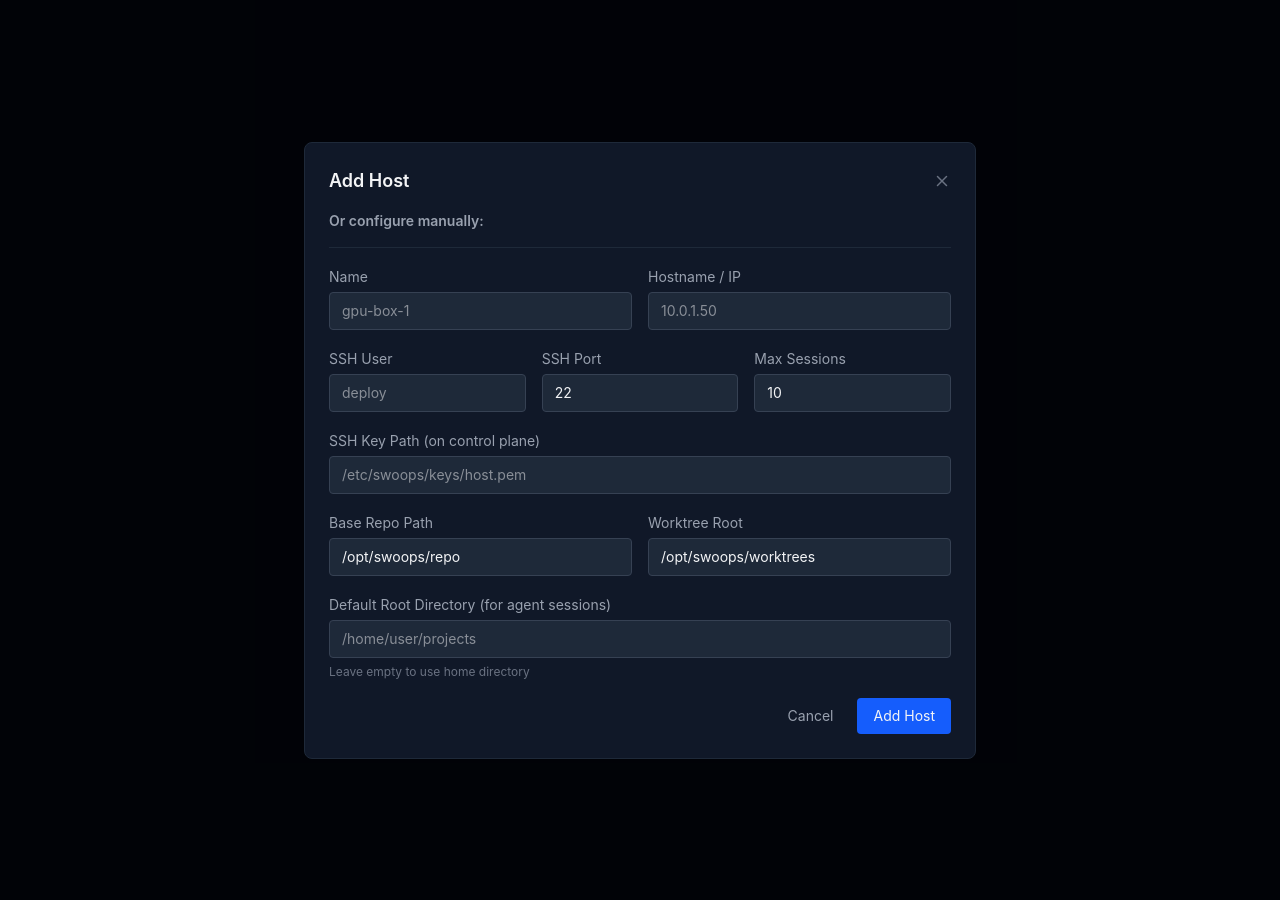
Test: CreateHostDialog › should display error message when submit fails
The image size is (1280, 900).
Type "Test Host" into the field with placeholder "gpu-box-1" at (480,310), box [329,292,632,330]
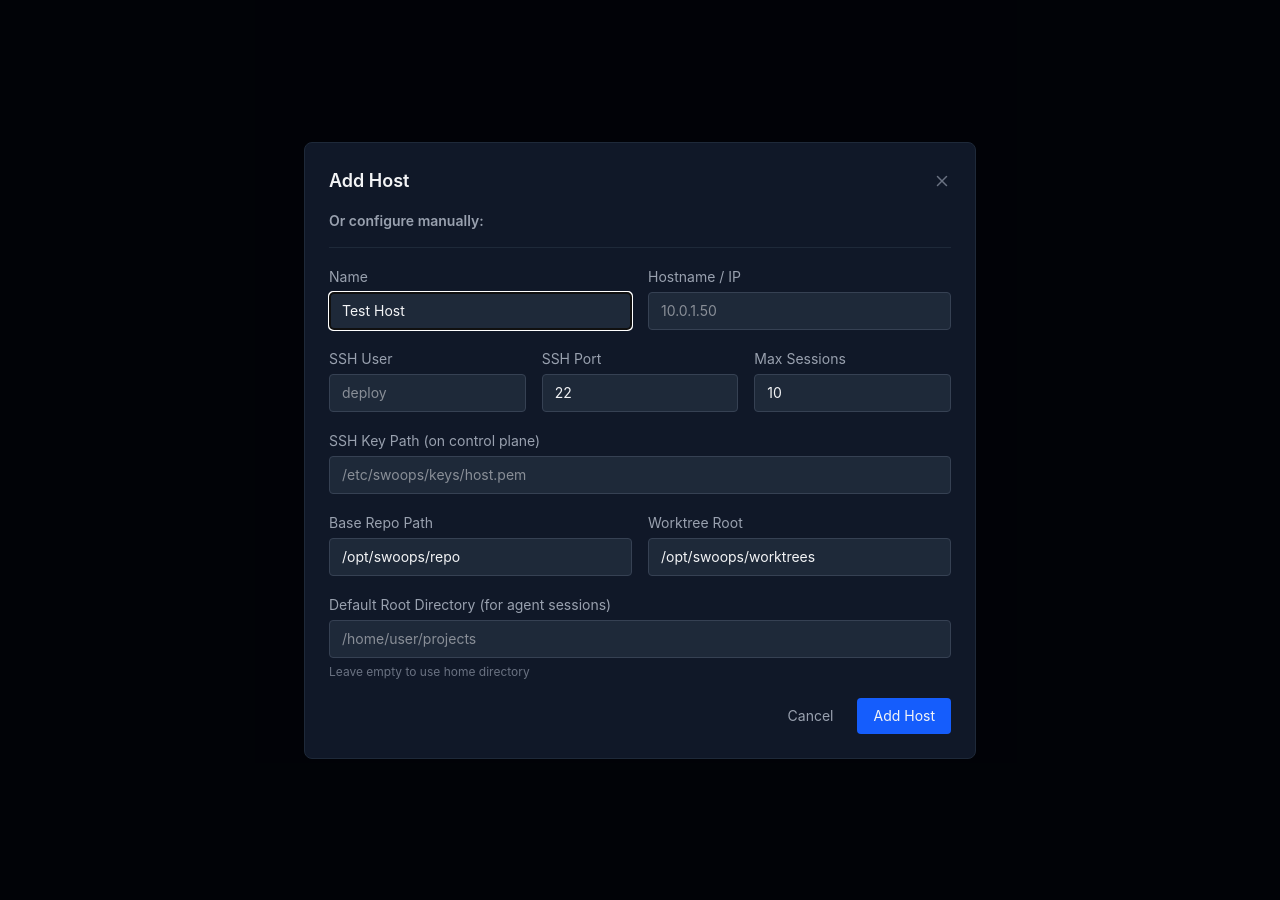
Type "test.example.com" into the field with placeholder "10.0.1.50" at (800,310), box [648,292,951,330]
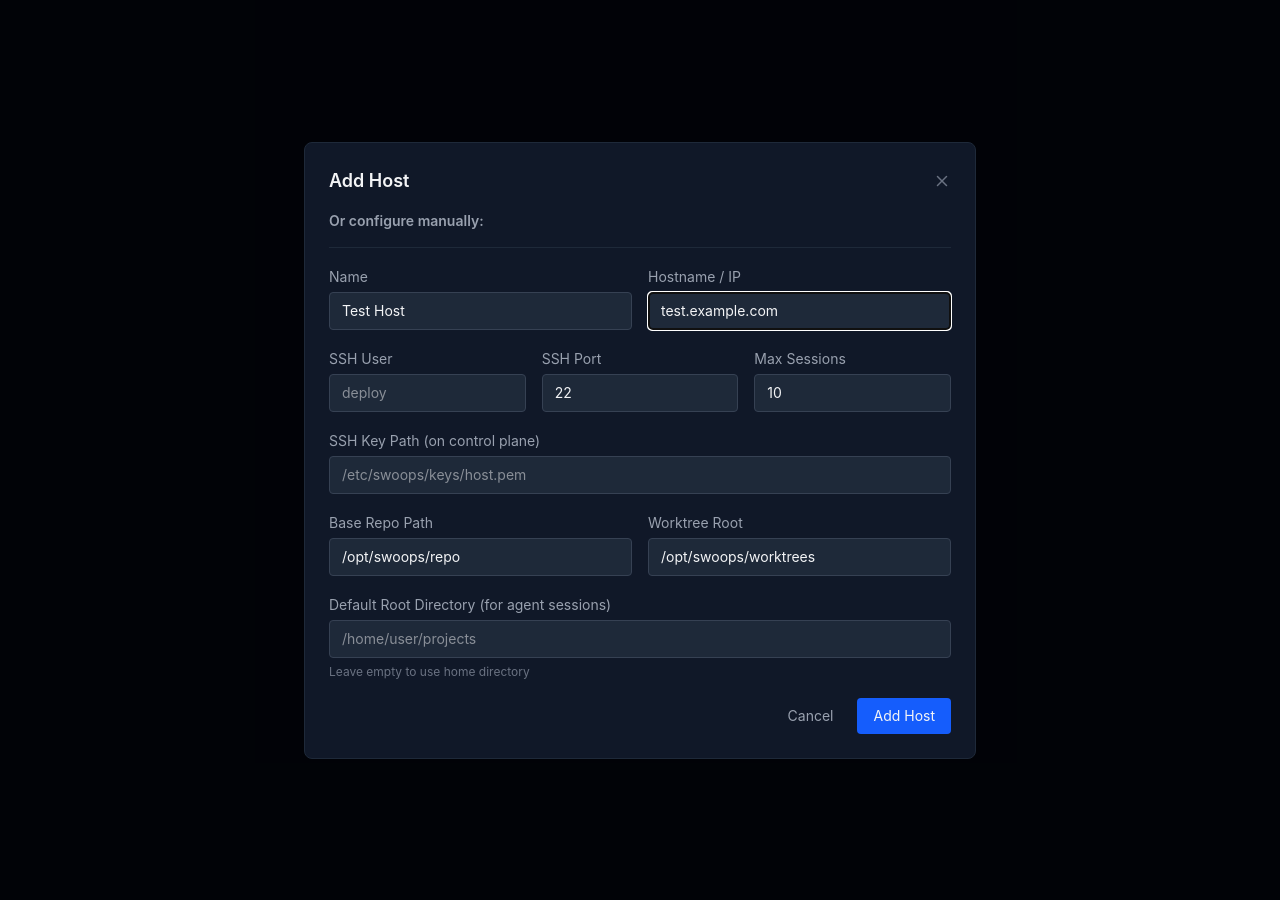
Type "testuser" into the field with placeholder "deploy" at (427,392), box [329,374,526,412]
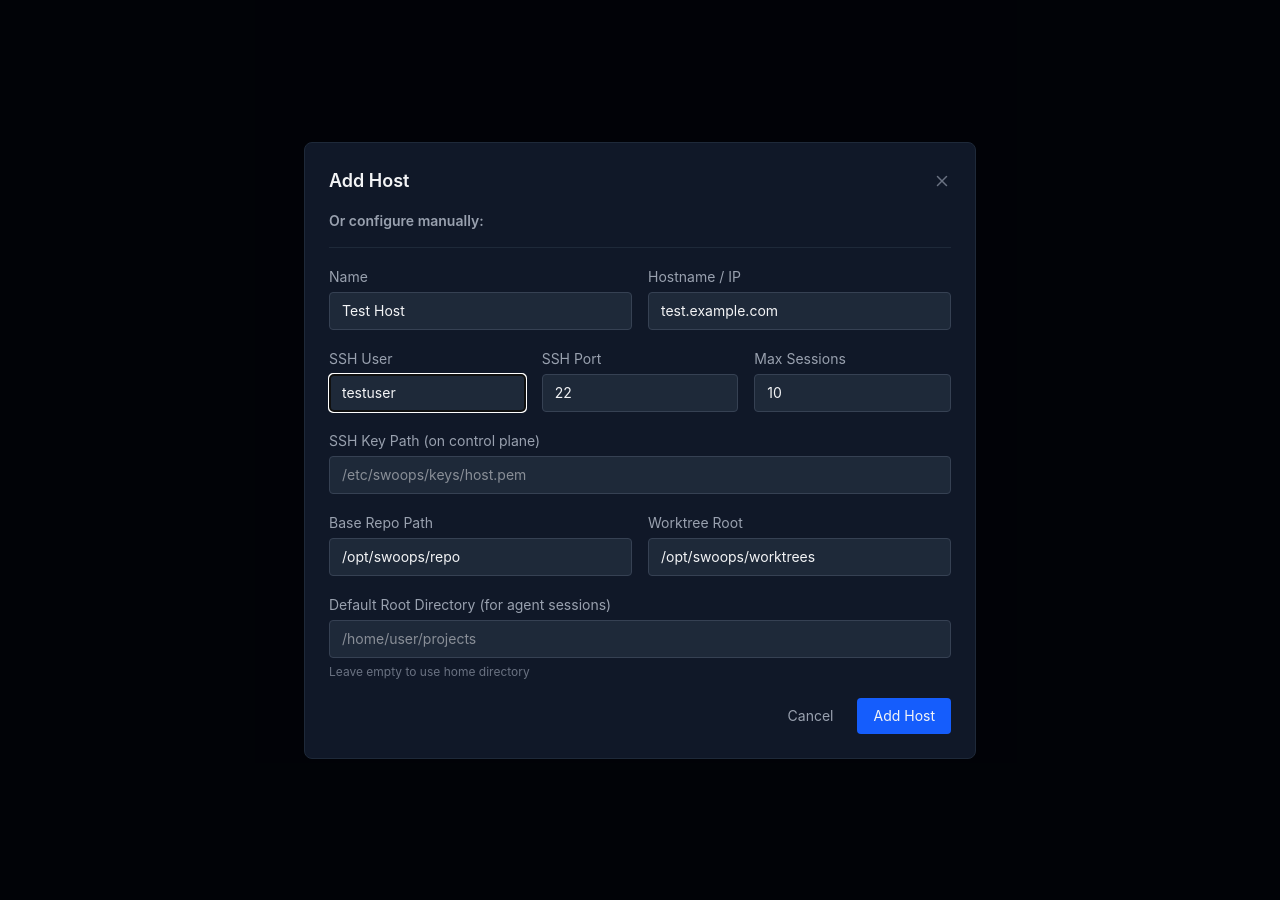
Type "/path/to/key" into the field with placeholder "/etc/swoops/keys/host.pem" at (640,474), box [329,456,951,494]
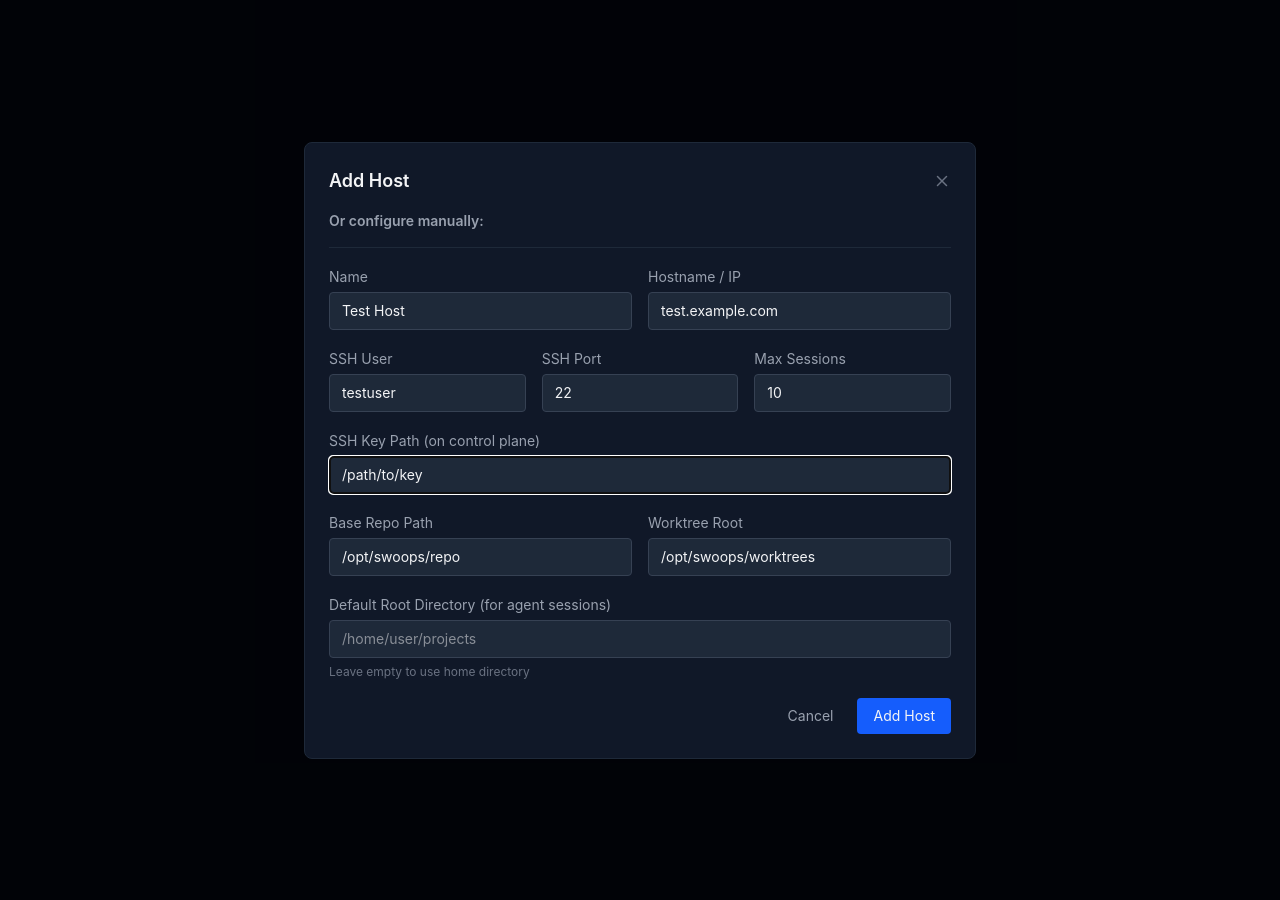
Click the button "Add Host" at (904,716), box [858,698,951,734]
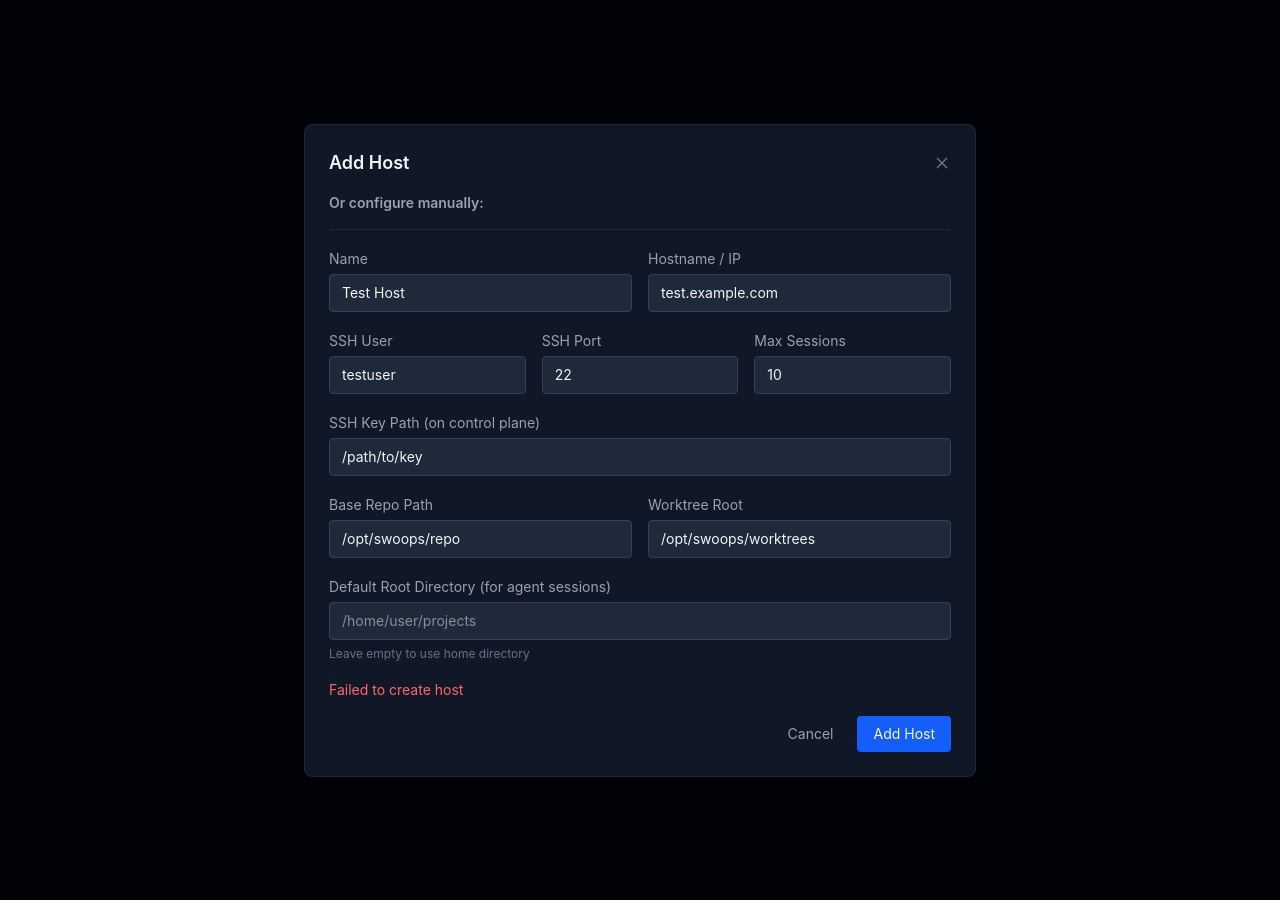
Check: the text "Failed to create host" is shown, box [329,680,463,698]
